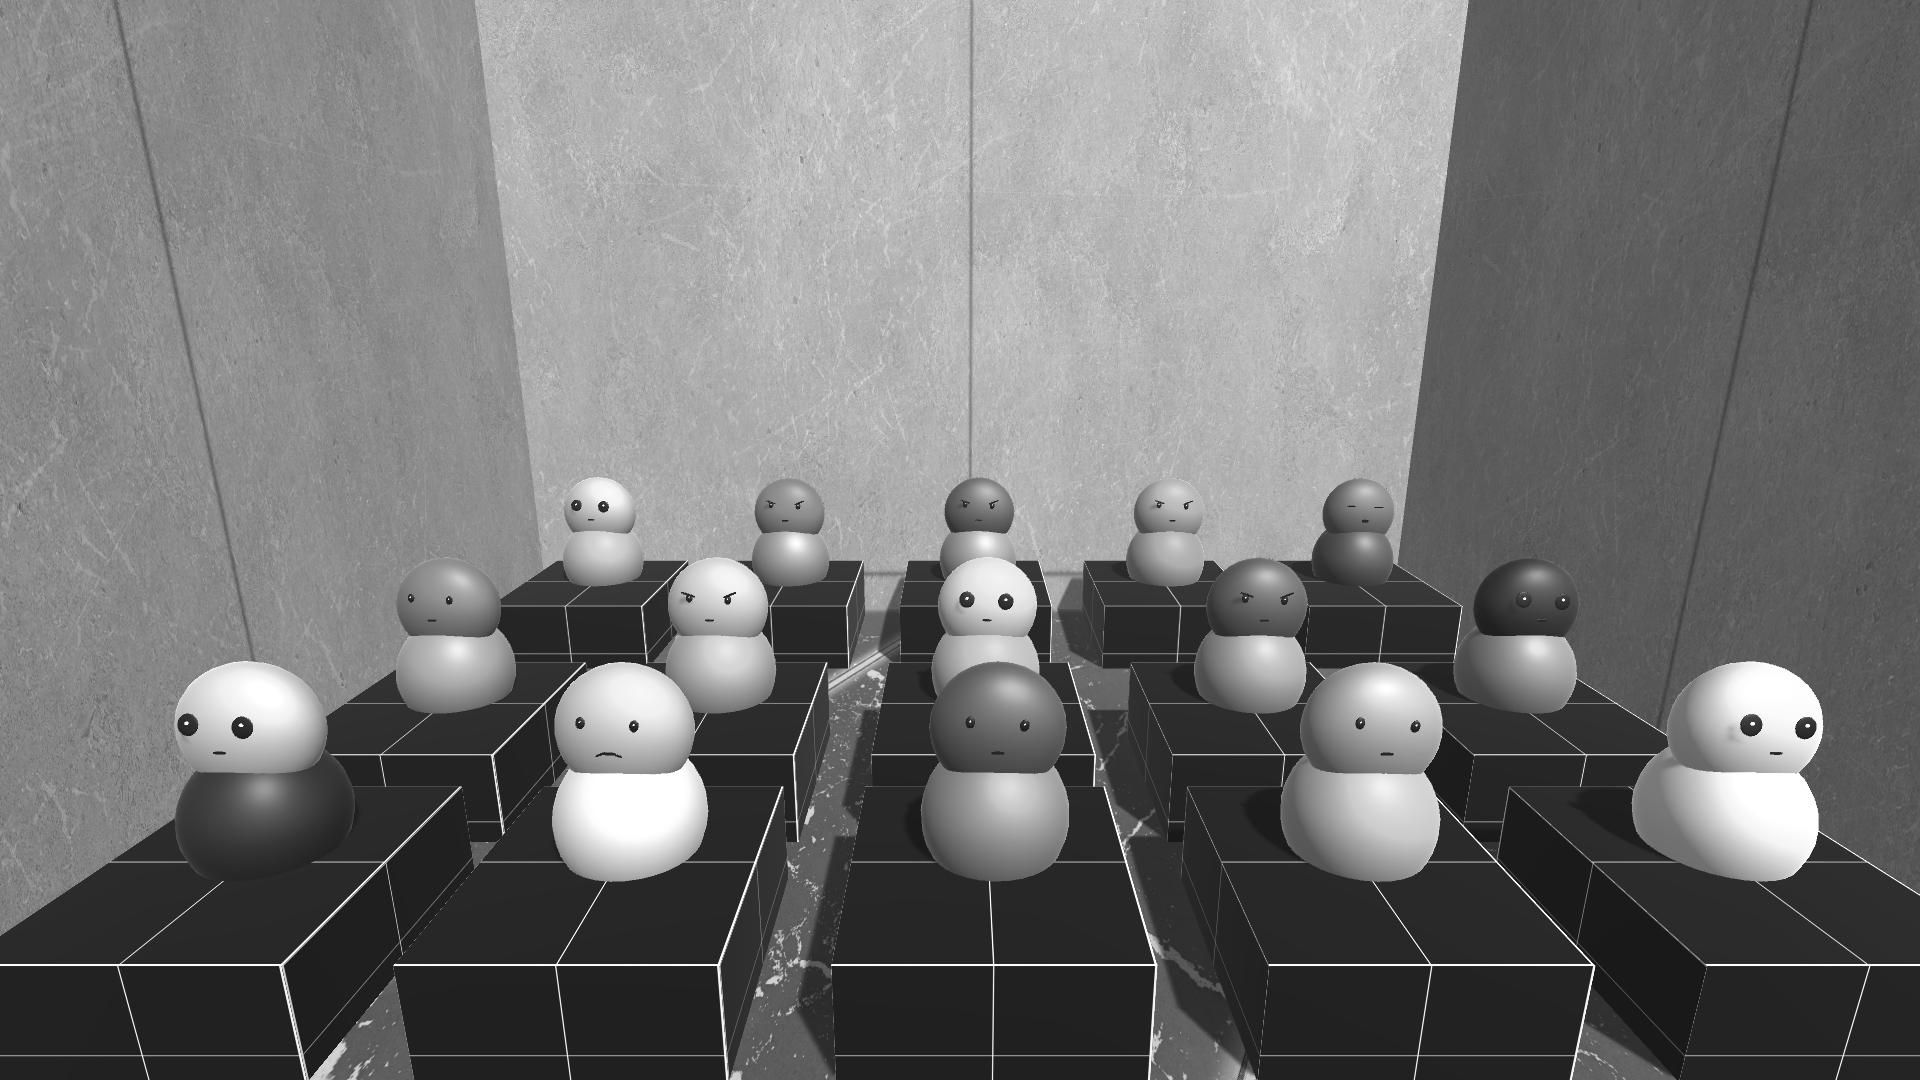blob_atento: (1631, 644, 1821, 890), (136, 659, 338, 870), (1460, 559, 1586, 746), (934, 556, 1047, 713), (550, 469, 644, 584)
blob_dormindo: (1304, 473, 1396, 603)
blob_normal: (1279, 653, 1440, 887), (914, 659, 1081, 881), (394, 551, 524, 716)
blob_raiva: (1189, 556, 1305, 716), (670, 556, 783, 704), (1117, 473, 1217, 591), (741, 471, 825, 593), (939, 473, 1023, 583)
blob_triste: (551, 649, 719, 889)
